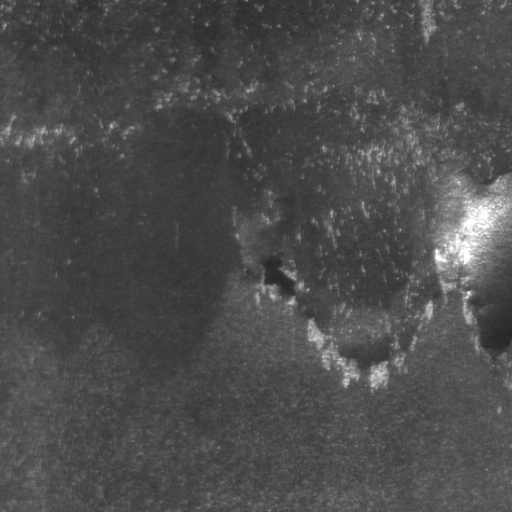qiaopi: (248, 249, 426, 394), (431, 161, 512, 369)
